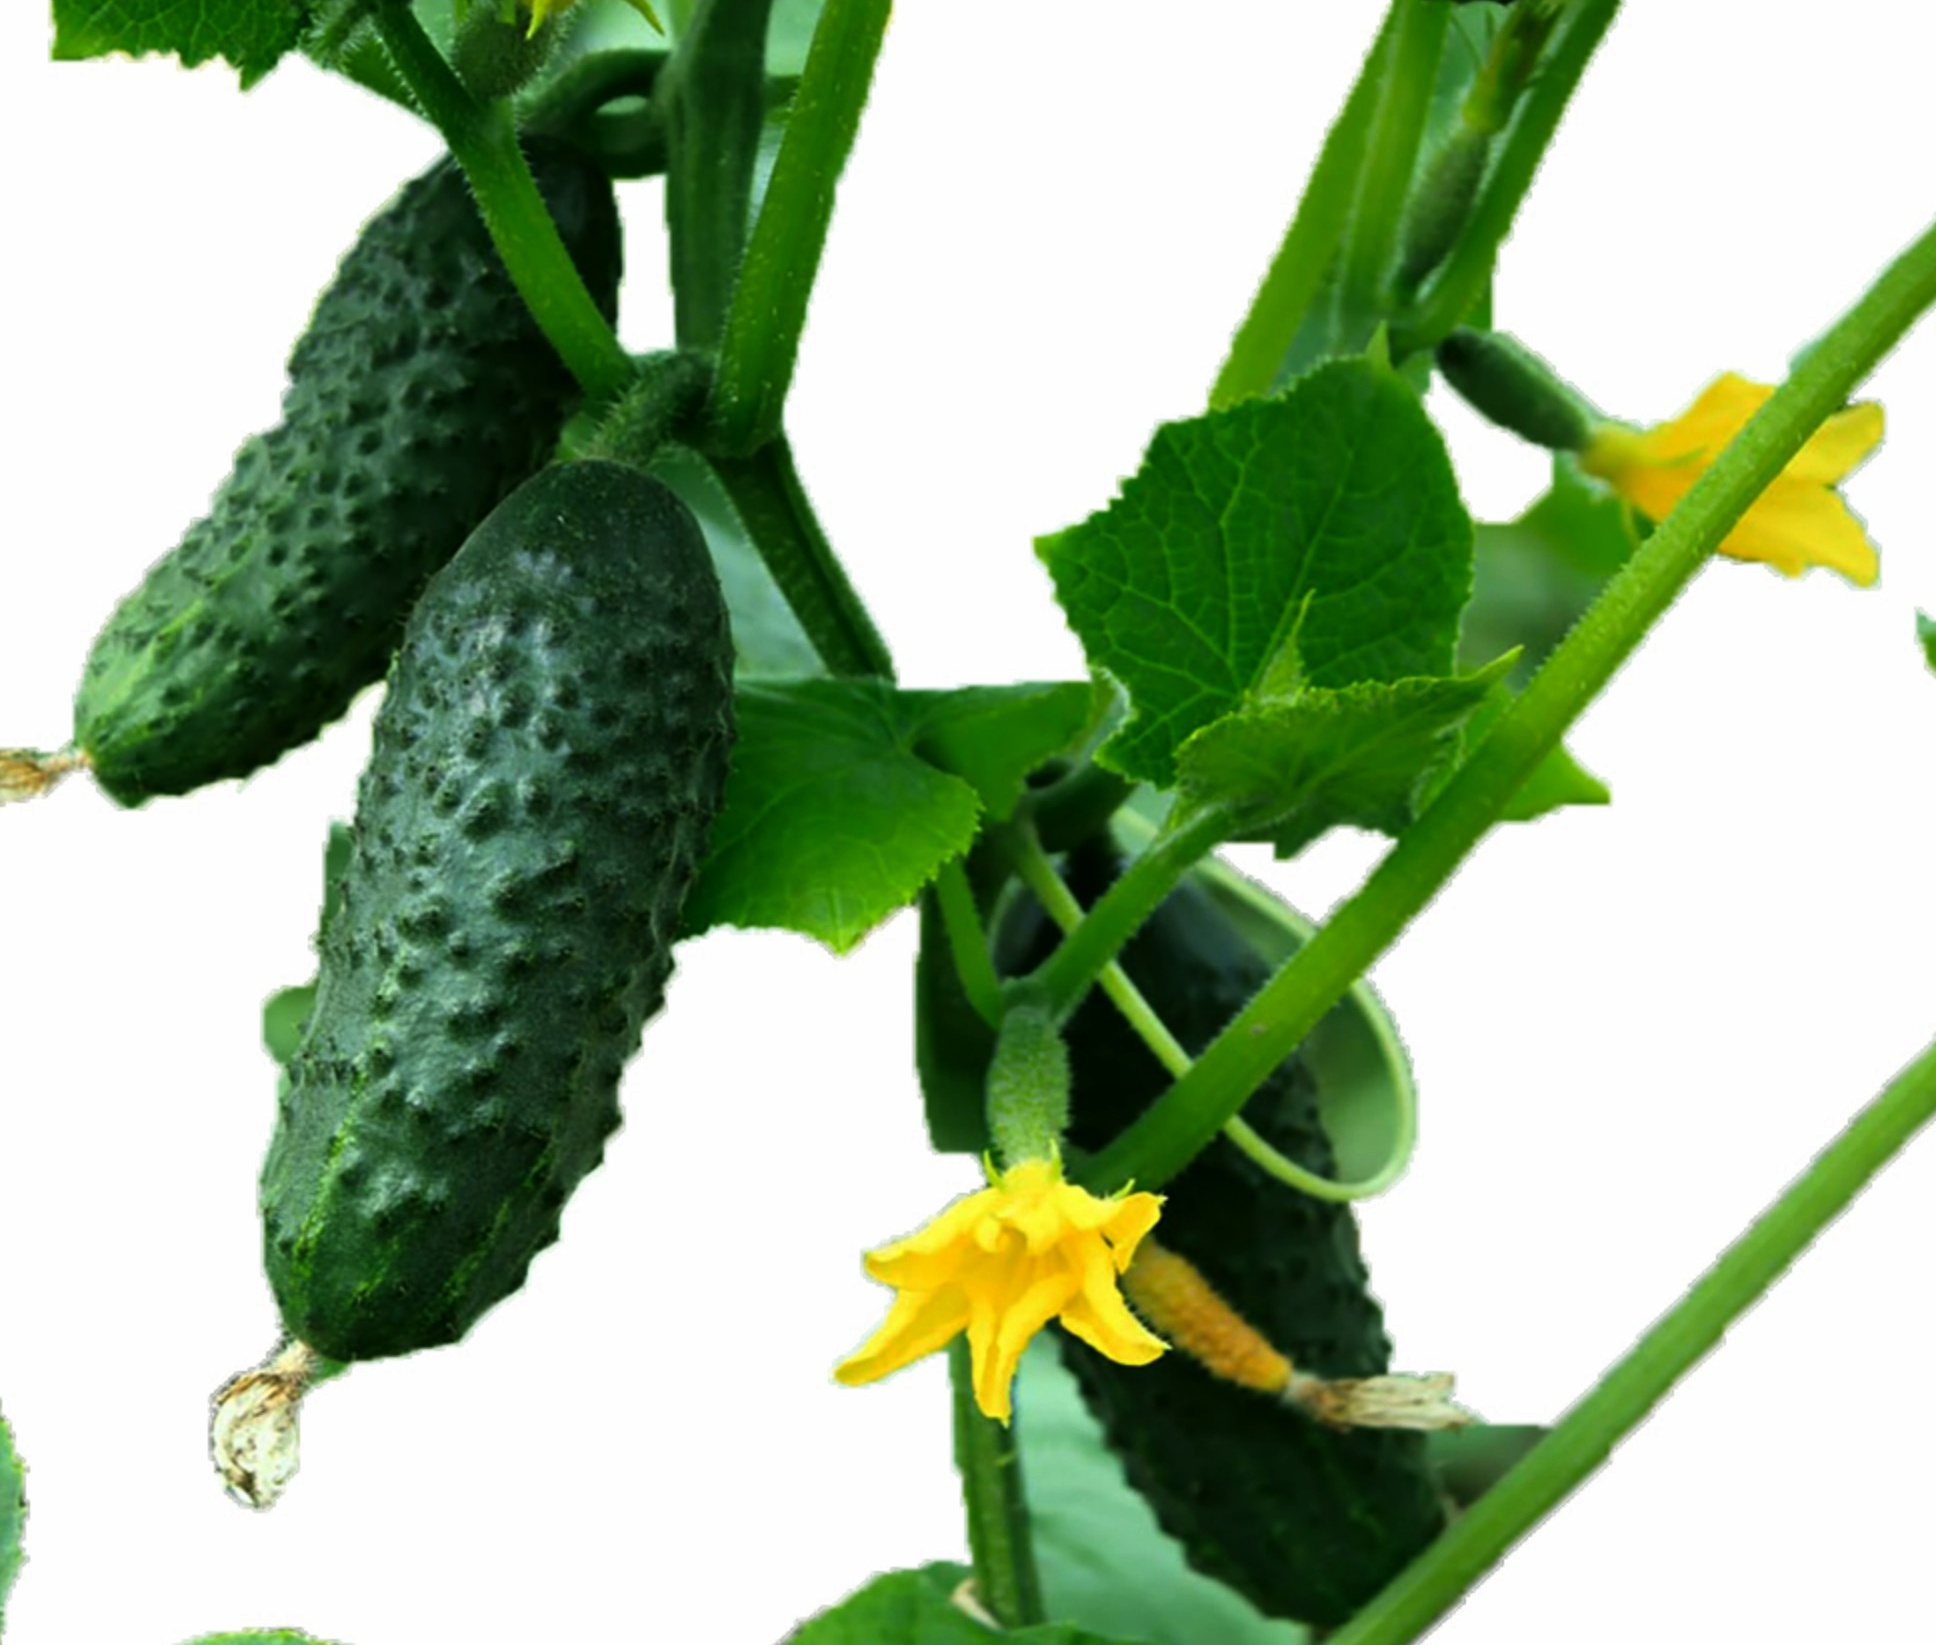cucumber: (13, 109, 669, 824), (255, 465, 726, 1376)
cucumber_plant: (793, 15, 1920, 1599)
